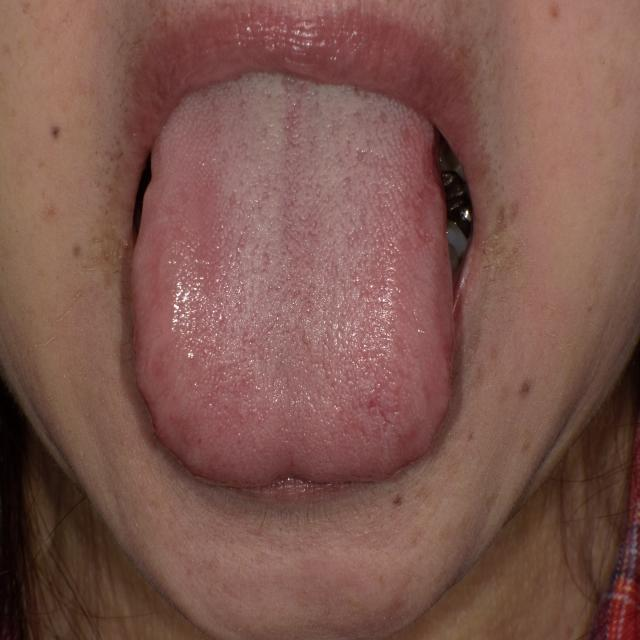baitaishe: (129, 70, 455, 487)
chihenshe: (139, 385, 197, 476)
